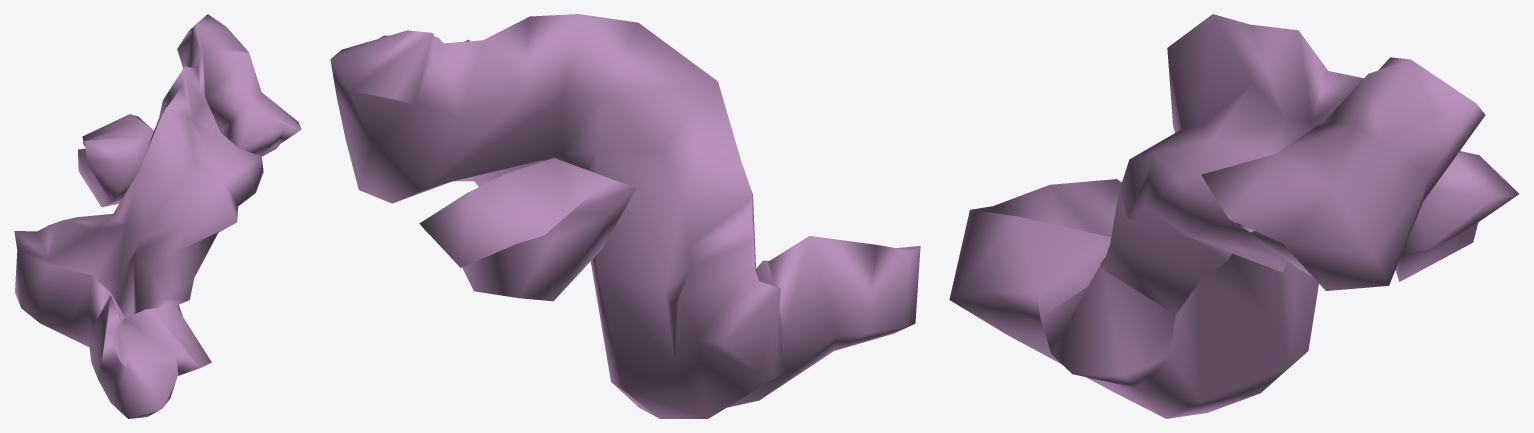
The picture shows the model from 3 angles, left to right: view 1: azimuth 30°, elevation 25°; view 2: azimuth 150°, elevation 25°; view 3: azimuth 270°, elevation 25°; orthographic projection. The views are drawn at different scales.
Parts seen in each view (by area): view 1: 右侧月状沟; view 2: 右侧月状沟; view 3: 右侧月状沟.
Part boxes in pixels (x1=…): 右侧月状沟: x1=14, y1=14, x2=301, y2=418; 右侧月状沟: x1=330, y1=14, x2=920, y2=418; 右侧月状沟: x1=949, y1=14, x2=1518, y2=418.
Size of the model in its own units: 0.032 by 0.0309 by 0.0354.
